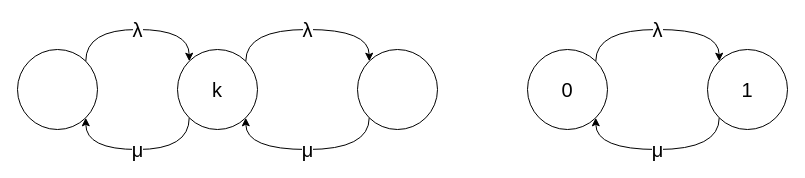
Some shapes in this 805 by 178 pixel diagram are drawn without their labels. The shapes that lost their labels are listed below. From the top down, each one's centre as x and y in pixels, then its label:
[57,89]: k-1
[397,89]: k+1
